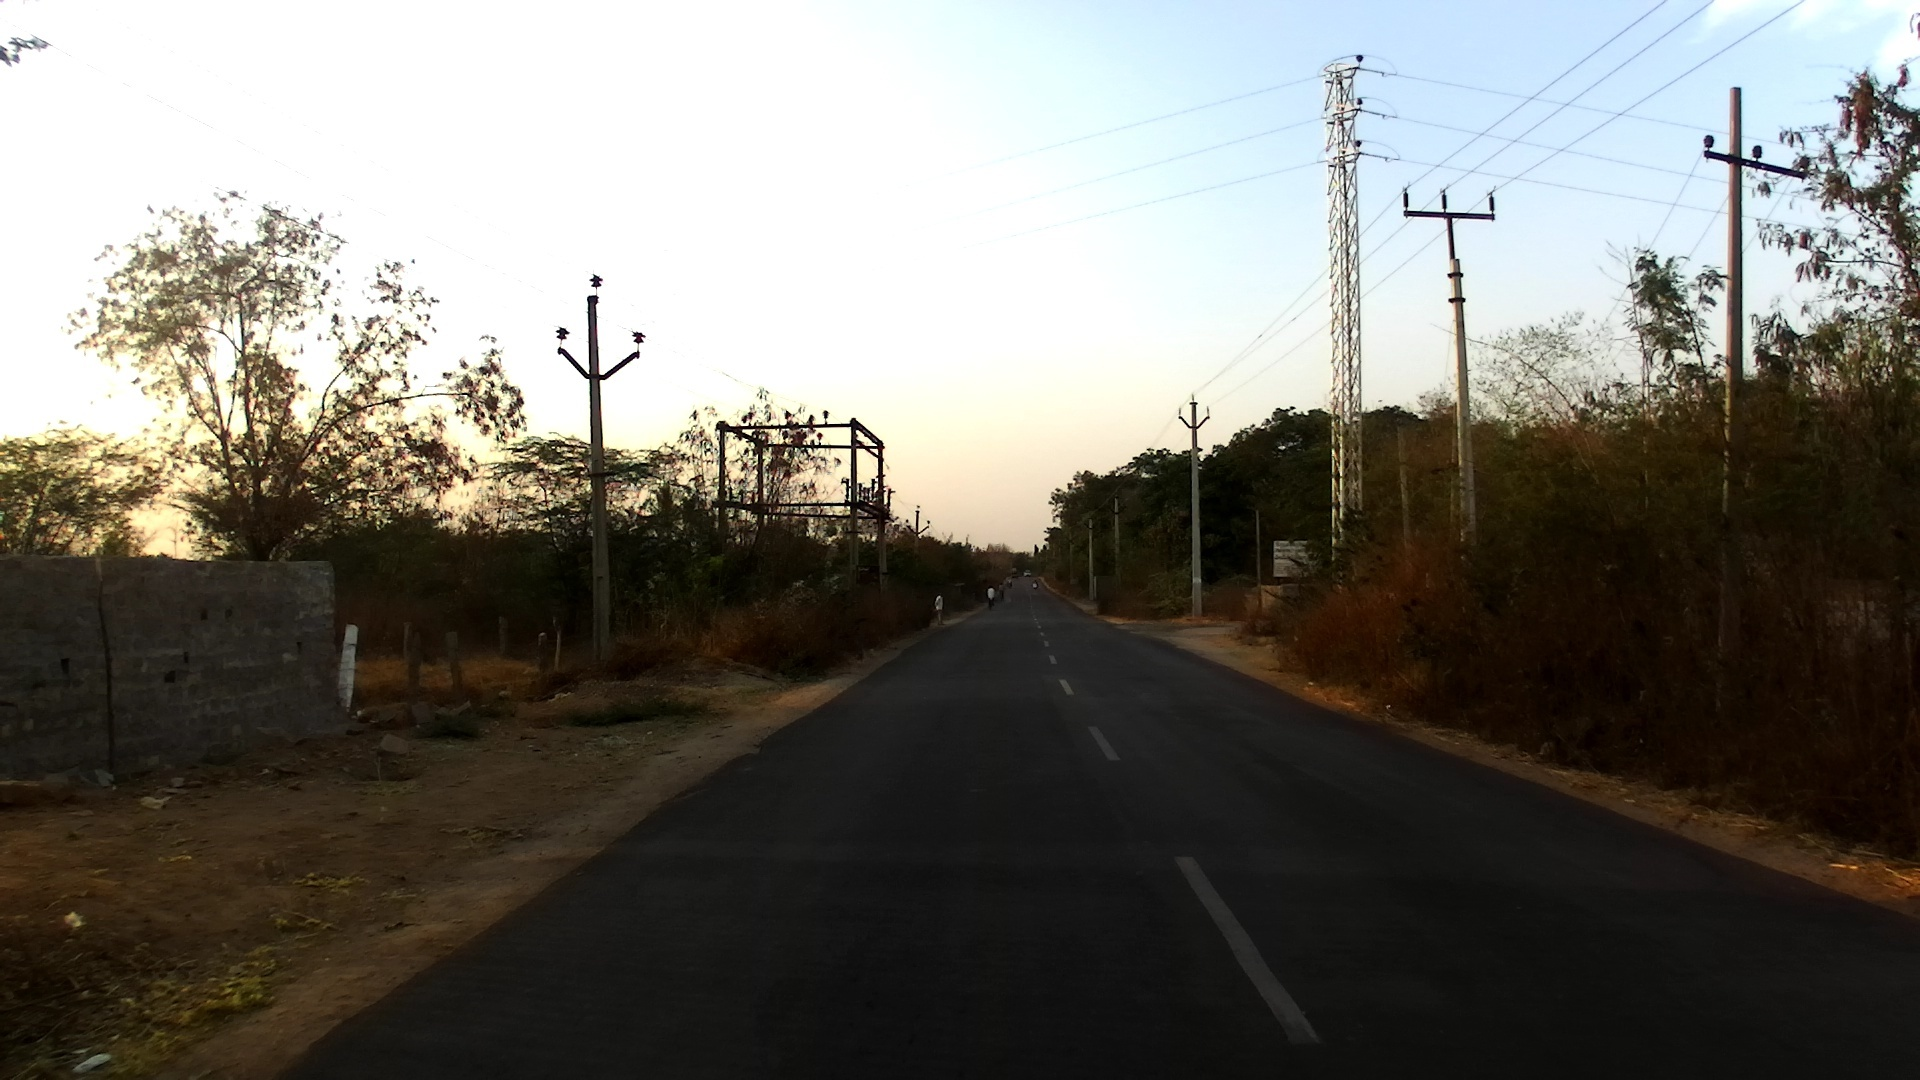autorickshaw: (1010, 568, 1020, 579)
bicycle: (986, 591, 999, 612), (997, 587, 1008, 603)
car: (1022, 569, 1031, 577)
motorcycle: (1005, 581, 1014, 589), (1031, 583, 1037, 589)
person: (932, 590, 946, 628)
rider: (996, 581, 1007, 603), (985, 585, 997, 604), (1007, 576, 1016, 586), (1033, 578, 1039, 587)
